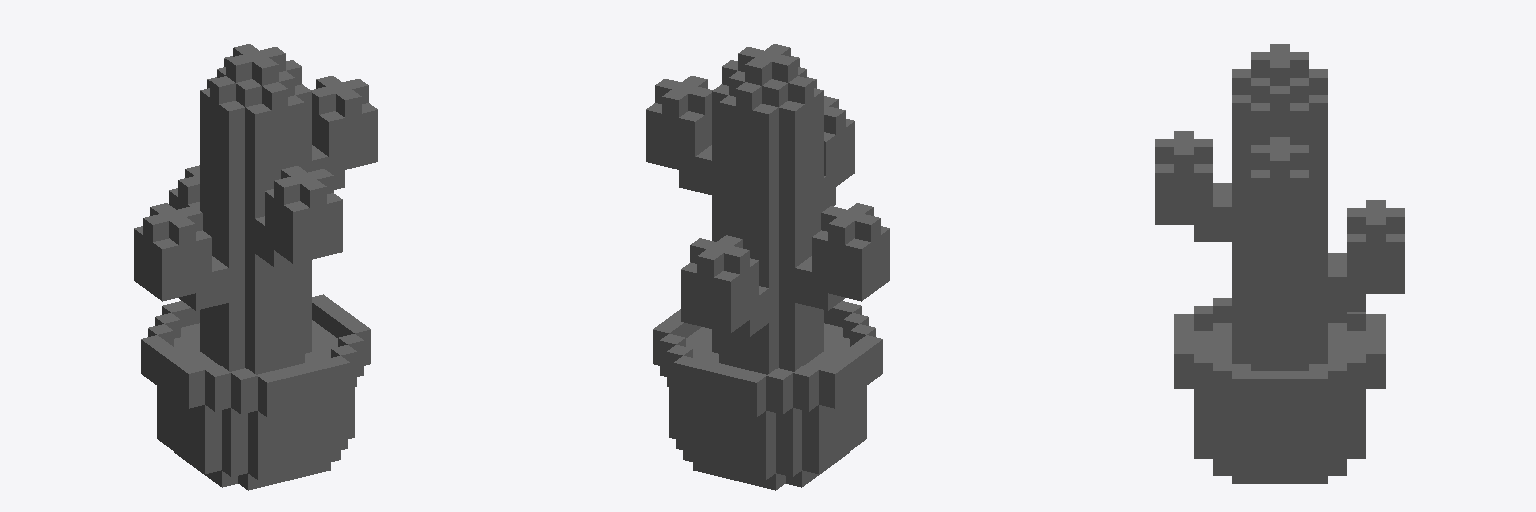
The model's file is gray_cactus.obj.
3 renders of one model, left to right at view 1: azimuth 30°, elevation 25°; view 2: azimuth 150°, elevation 25°; view 3: azimuth 270°, elevation 25°, orthographic.
Parts seen in each view (by area): view 1: gray_cactus; view 2: gray_cactus; view 3: gray_cactus.
Part boxes in pixels (x1,y1,x2,y2): gray_cactus: (134,44,377,490); gray_cactus: (646,44,889,490); gray_cactus: (1155,44,1404,483).
Size of the model in its own units: 1.3 by 2.3 by 1.3.